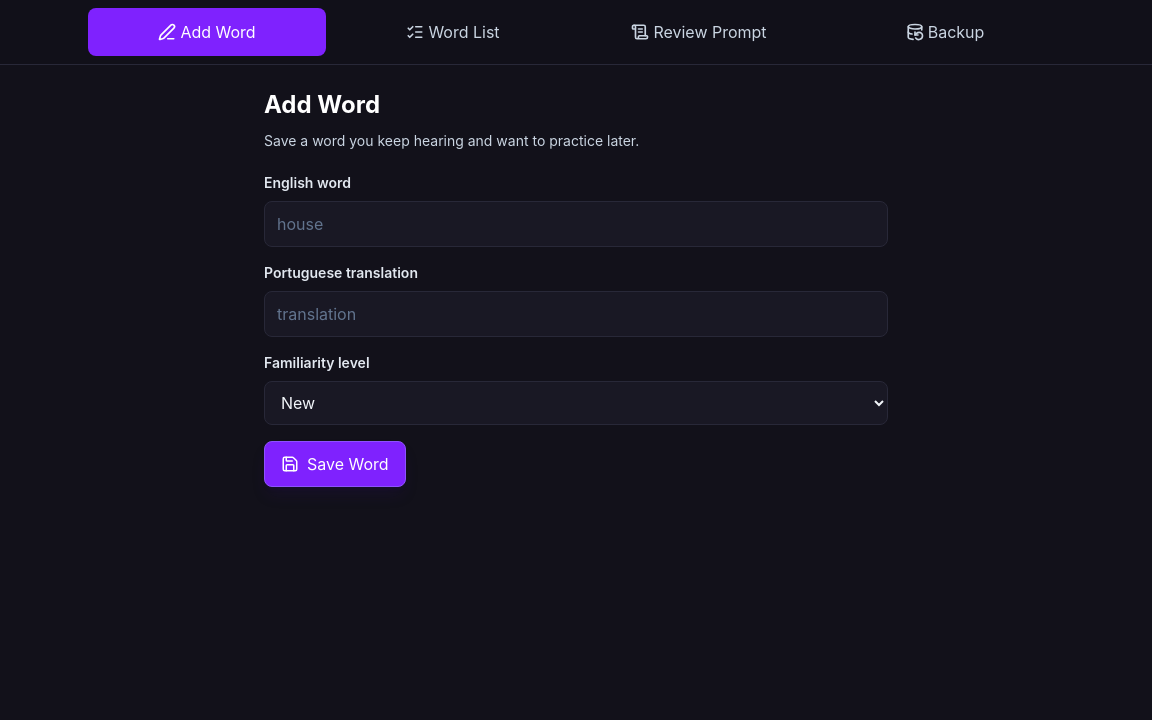
Test: WordCatcher app › edits a word from the list
The width and height of the screenshot is (1152, 720).
In the field labelled "English word": (576, 224) [264,201,888,247], type "home"
In the field labelled "Portuguese translation": (576, 314) [264,291,888,337], type "home meaning"
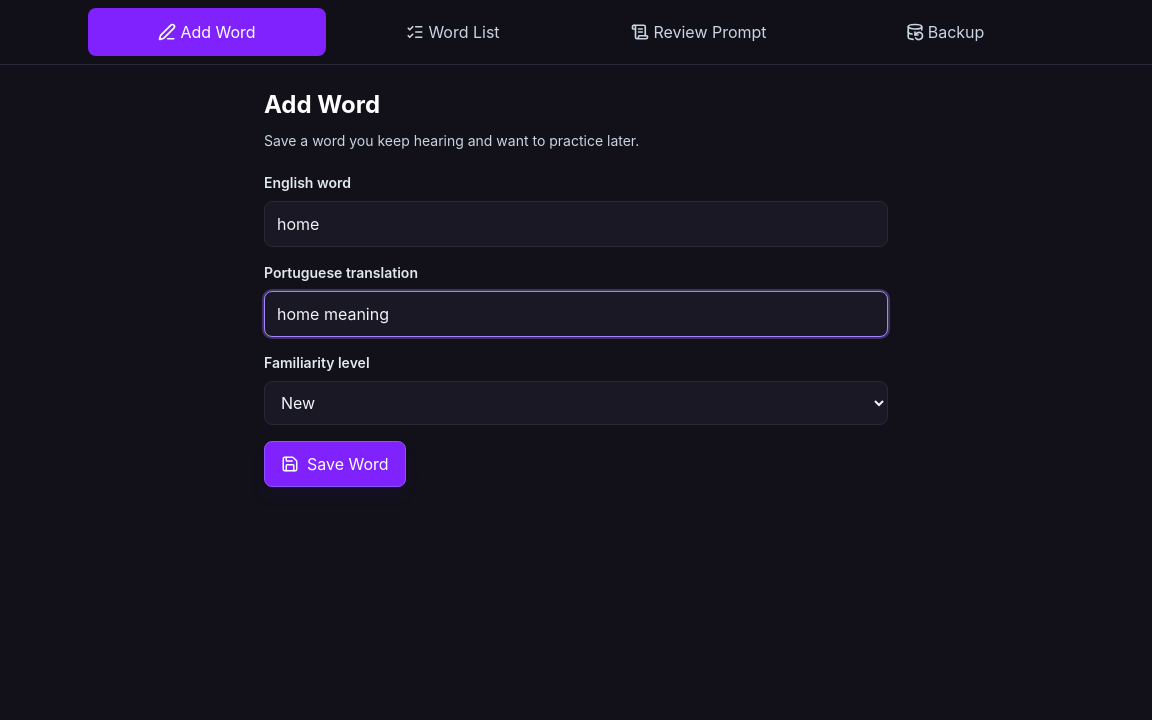
Select "New" in the dropdown labelled "Familiarity level": (576, 403) [264,381,888,425]
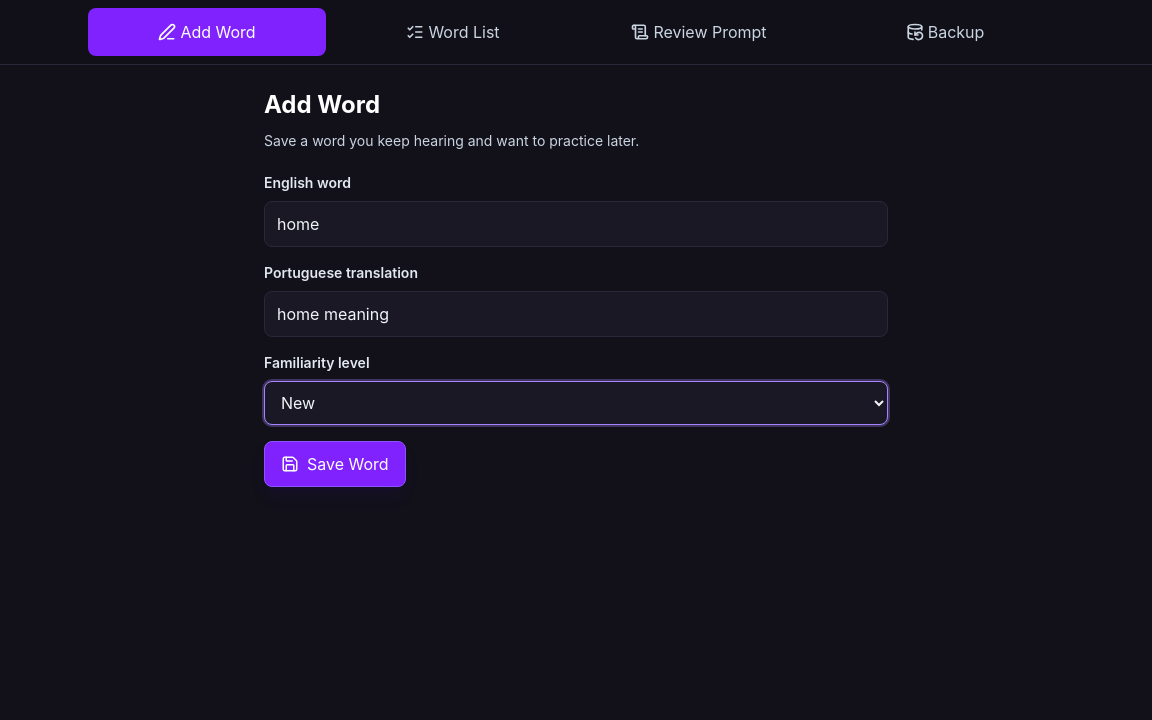
Click the button "Save Word": (335, 464) [264,441,406,487]
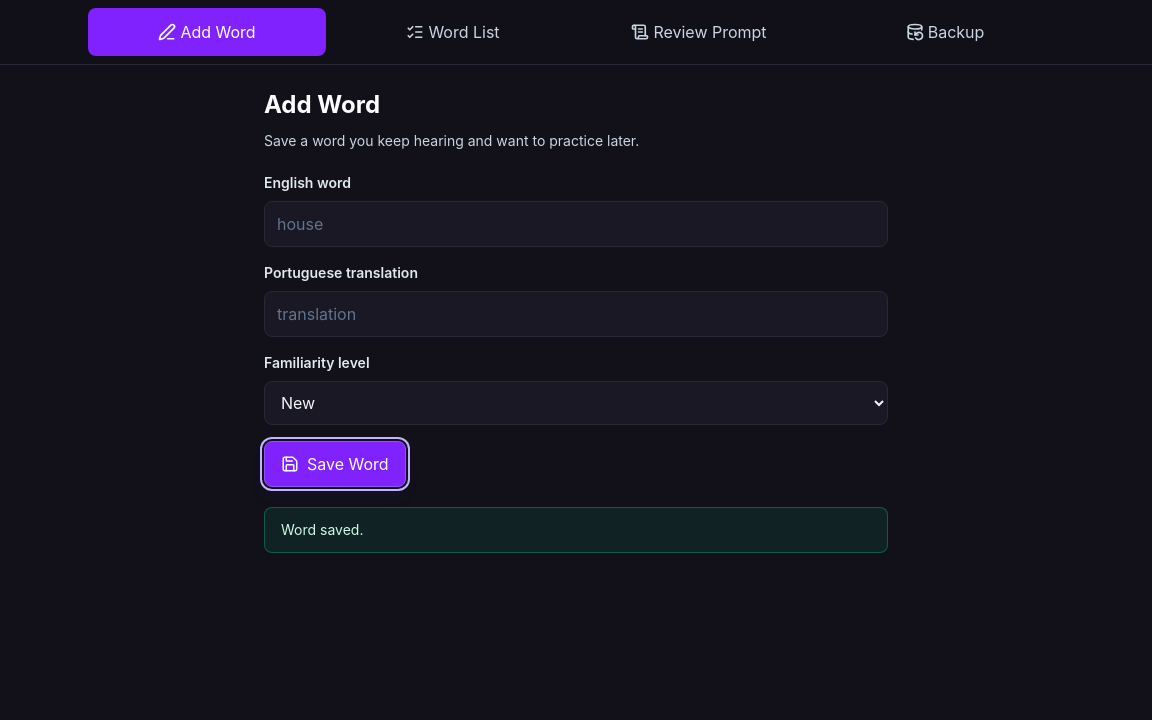
Click the button "Word List": (453, 32) [334,8,572,56]
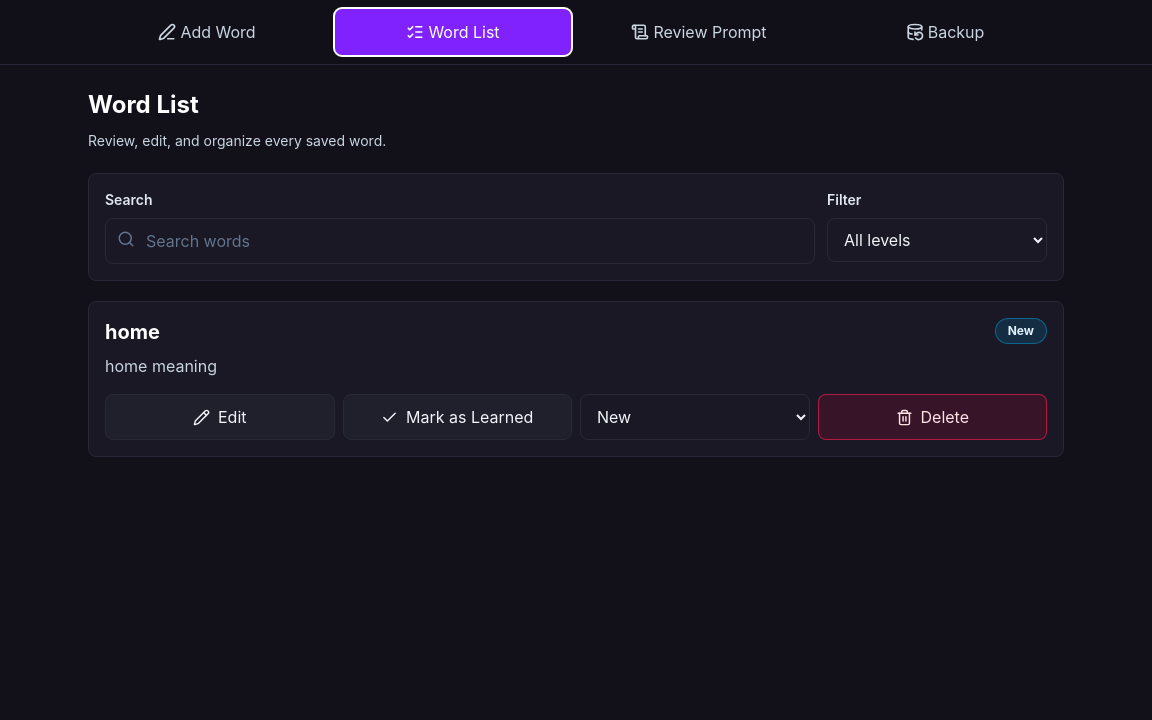
Click the button "Edit": (220, 417) [105,394,334,440]
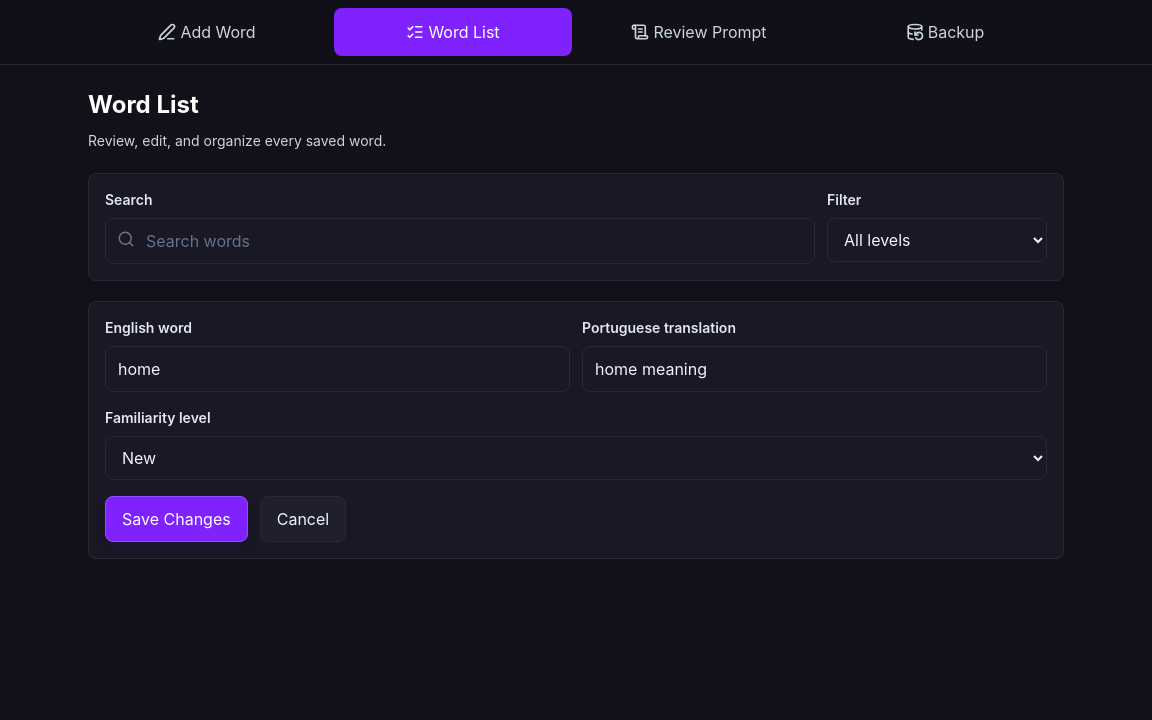
Replace the text in the field labelled "English word" with "house": (338, 369) [105,346,570,392]
Click the button "Save Changes": (176, 519) [105,496,248,542]
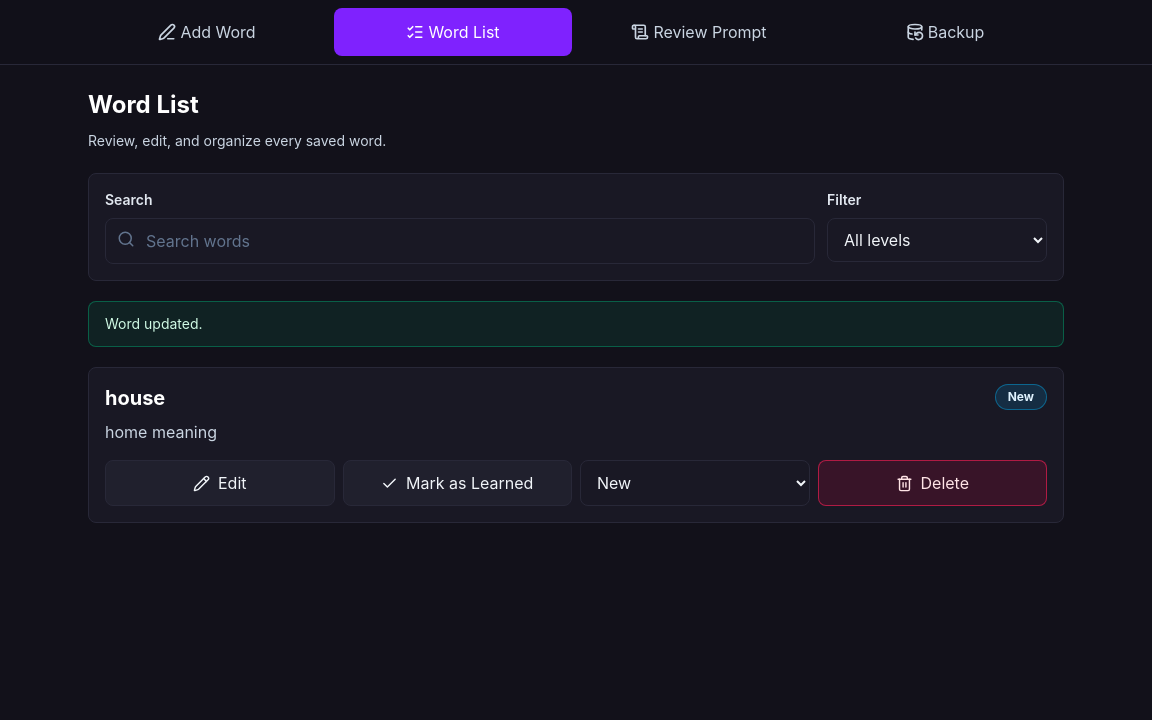
Now the text "Word updated." is shown, box [88,301,1064,347]
Now the heading "house" is shown, box [105,386,165,410]
